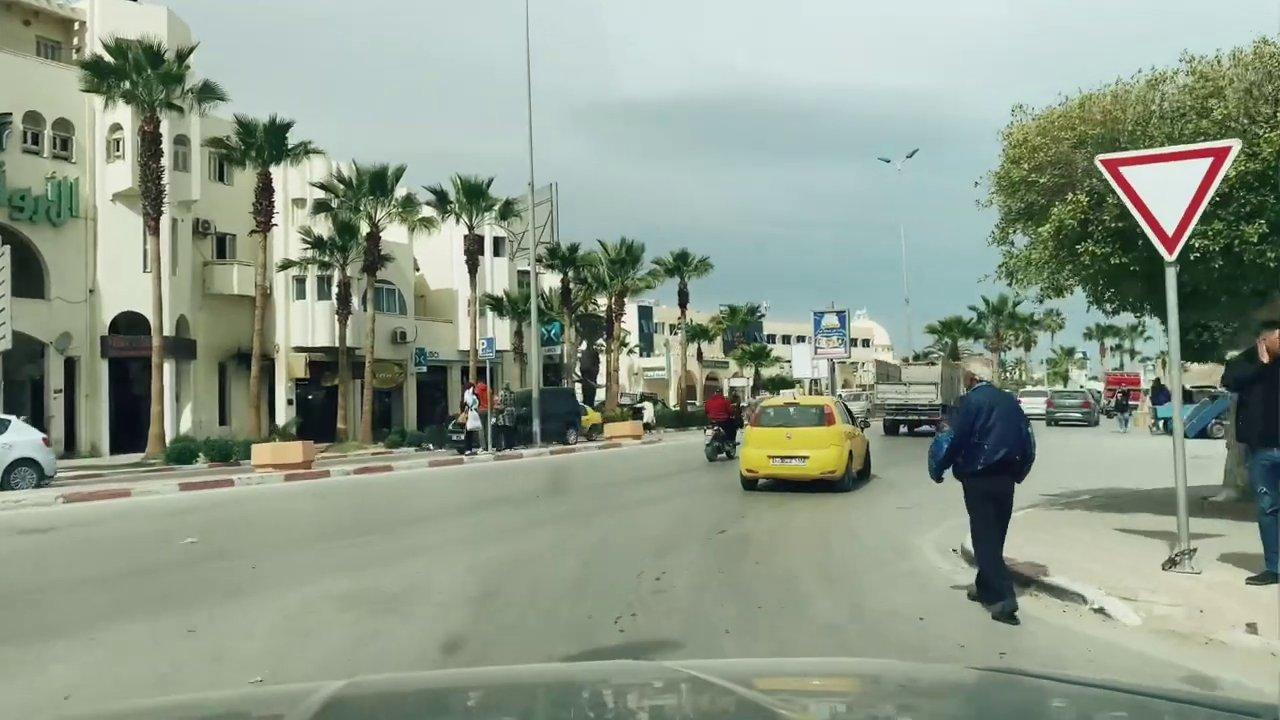give way: (1084, 141, 1241, 266)
parking zone: (476, 337, 498, 359)
